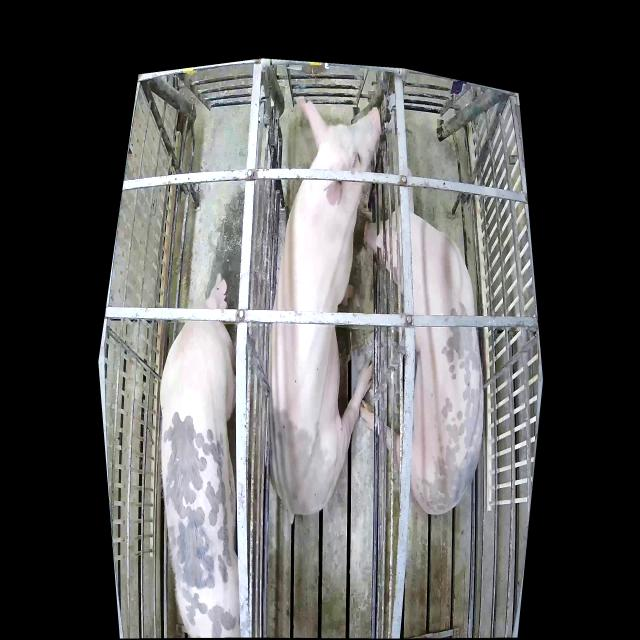pig: (269, 101, 384, 516), (361, 168, 482, 513), (159, 272, 240, 637)
